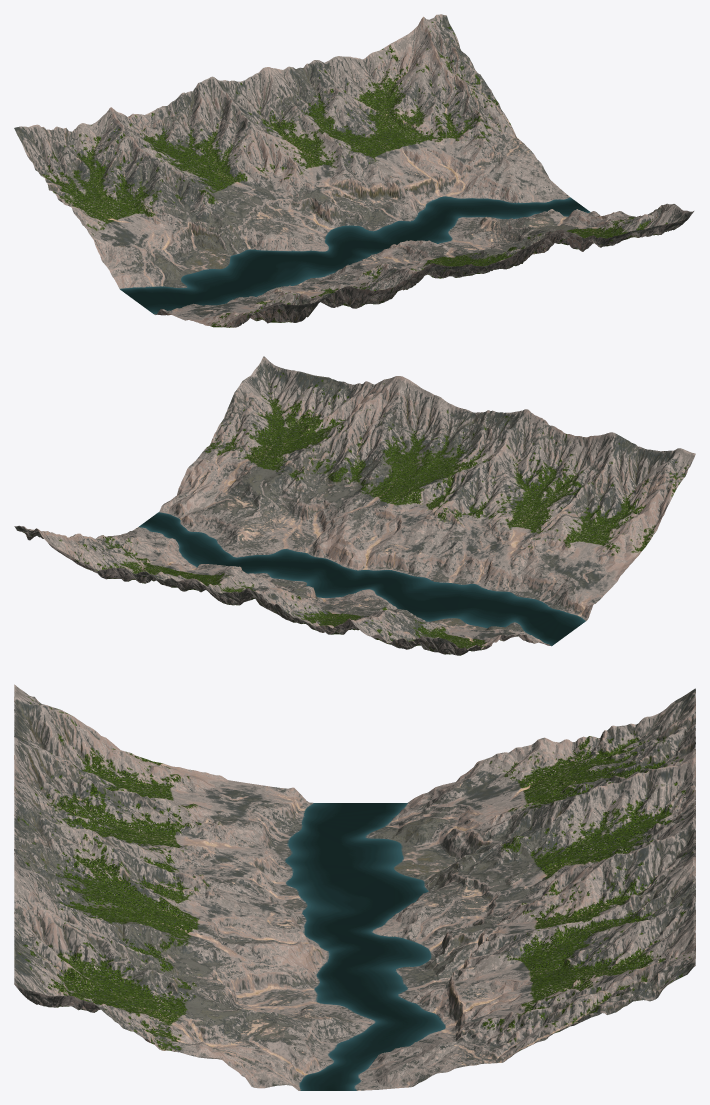
Rendered from MountFinally3.fbx.
3 views of the same model, one above another, from view 1: azimuth 30°, elevation 25°; view 2: azimuth 150°, elevation 25°; view 3: azimuth 270°, elevation 25° (orthographic). The views are drawn at different scales.
Visible parts, largest first — view 1: Mesher.001; view 2: Mesher.001; view 3: Mesher.001.
Part boxes in pixels (x1,y1,x2,y2): Mesher.001: (14,14,693,327); Mesher.001: (14,356,695,655); Mesher.001: (14,684,695,1090).
Size of the model in its own units: 100 by 21.08 by 100.
Materials: 1 (1 with a texture image).
